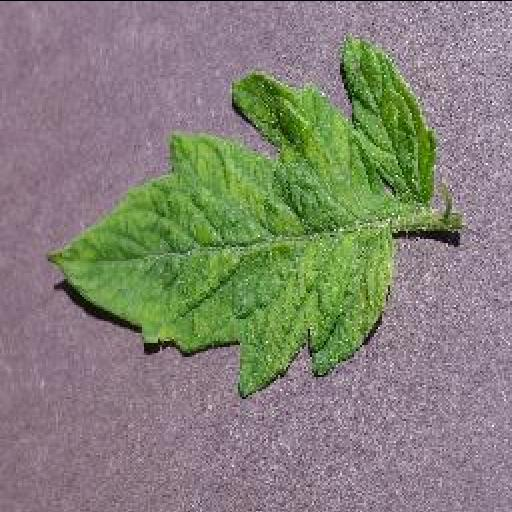Mosaic Virus: (47, 40, 437, 400)
